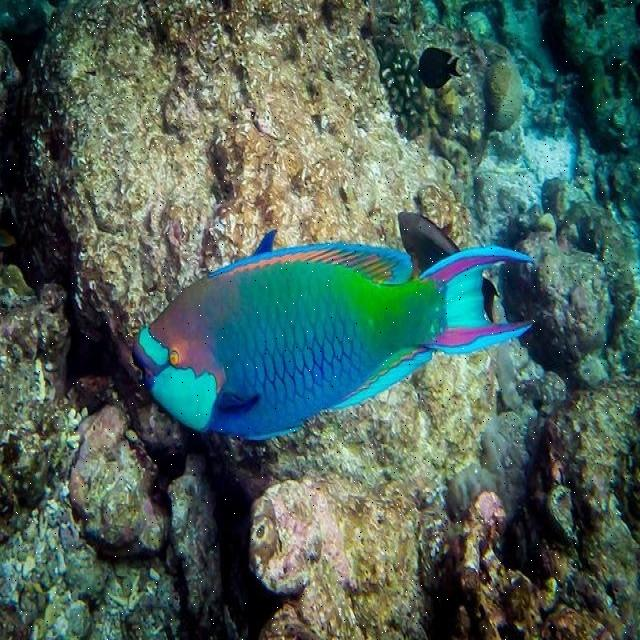fish: (132, 210, 537, 440), (417, 47, 464, 89)
